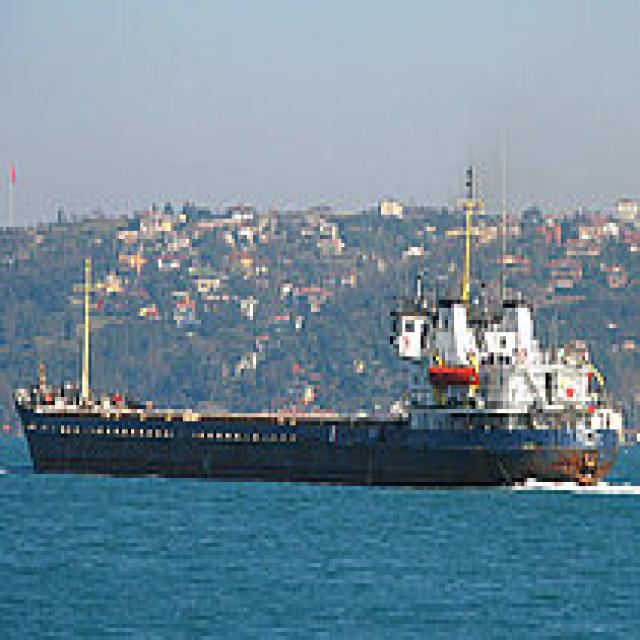Cargo: (9, 154, 622, 482)
